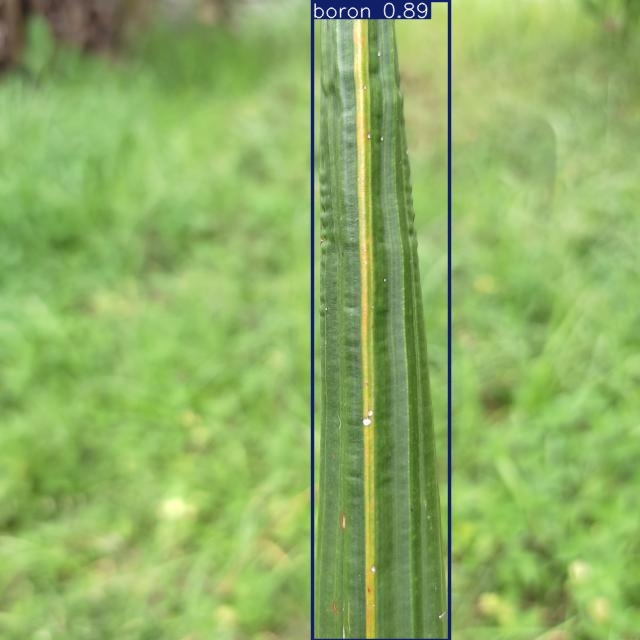nitrogen: (313, 0, 450, 640)
